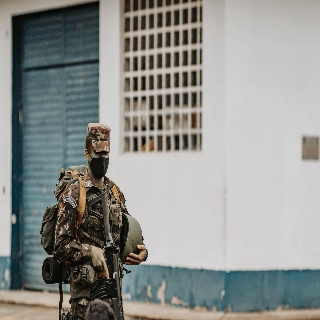rifle: (84, 190, 132, 320)
